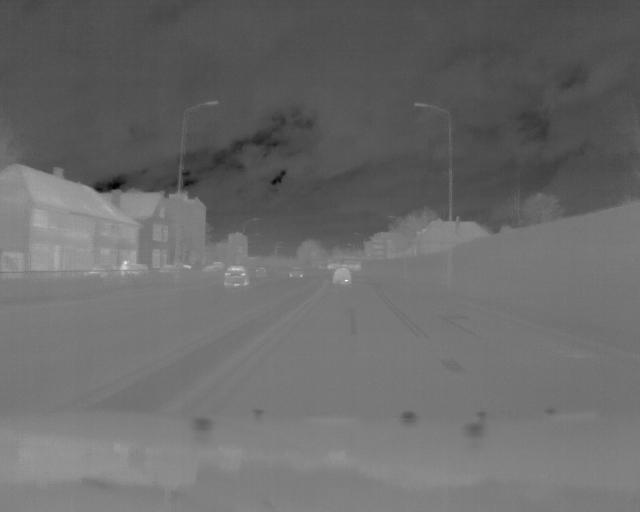car: (222, 264, 252, 290), (288, 265, 305, 281)
